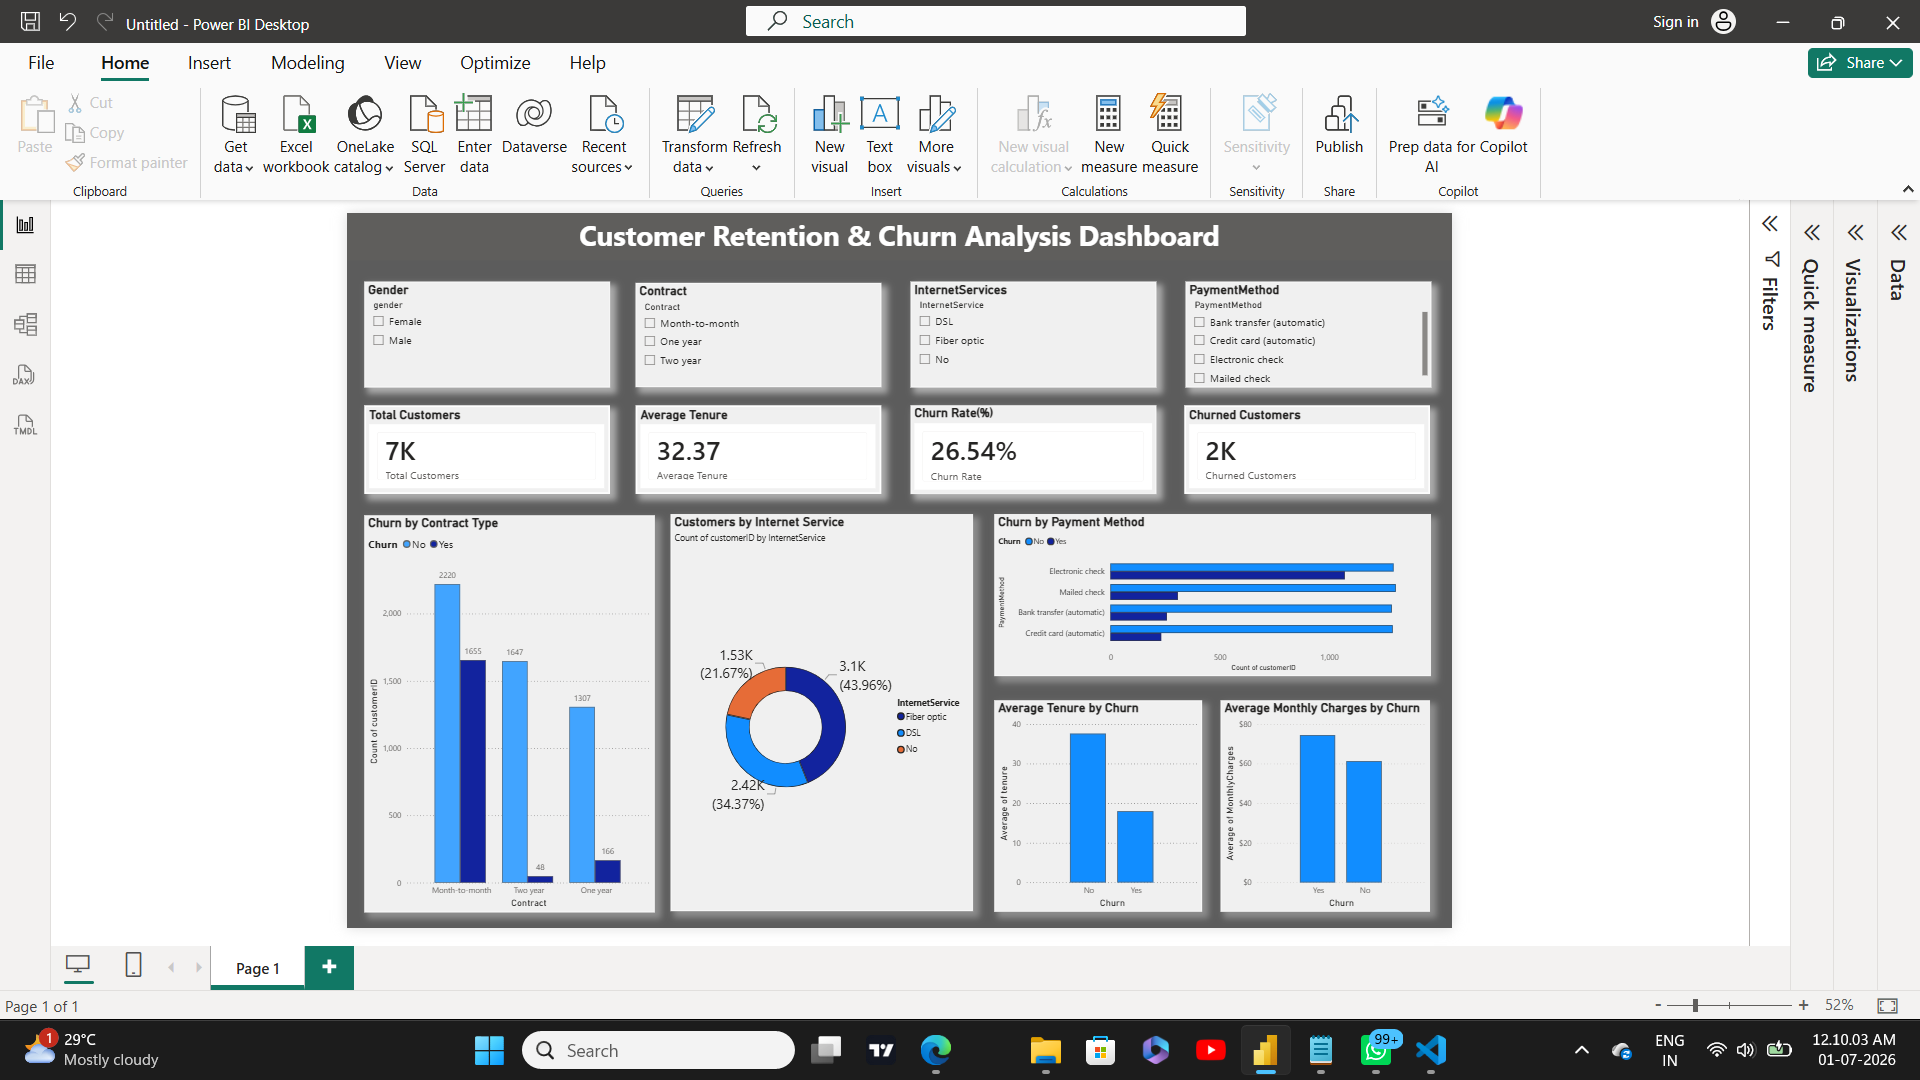

The page's visual inventory and layout, read from the dashboard file:
{"tool":"powerbi","page":{"name":"Page 1","canvas":[1700,1100],"ordinal":0},"visuals":[{"type":"cardVisual","title":"Total Customers","fields":{"Data":["in.Total Customers"]},"box":[27.6,296.8,377.9,136.4],"z":0},{"type":"cardVisual","title":"Churned Customers","fields":{"Data":["in.Churned Customers"]},"box":[1288.4,296.8,377.9,136.4],"z":1000},{"type":"cardVisual","title":"Churn Rate(%)","fields":{"Data":["in.Churn Rate"]},"box":[868.1,296.8,377.9,136.4],"z":2000},{"type":"cardVisual","title":"Average Tenure","fields":{"Data":["in.Average Tenure"]},"box":[444.2,296.8,377.9,136.4],"z":3000},{"type":"textbox","box":[0,0,1700,72.7],"z":4000},{"type":"clusteredColumnChart","title":"Churn by Contract Type","fields":{"Category":["in.Contract"],"Y":["CountNonNull(in.customerID)"],"Series":["in.Churn"]},"box":[27.6,464.5,446,610.1],"z":5000},{"type":"donutChart","title":"Customers by Internet Service","fields":{"Category":["in.InternetService"],"Y":["CountNonNull(in.customerID)"]},"box":[497.7,462.6,464.5,610.1],"z":6000},{"type":"clusteredBarChart","title":"Churn by Payment Method","fields":{"Category":["in.PaymentMethod"],"Y":["CountNonNull(in.customerID)"],"Series":["in.Churn"]},"box":[995.3,462.6,670.9,248.8],"z":7000},{"type":"clusteredColumnChart","title":"Average Monthly Charges by Churn","fields":{"Category":["in.Churn"],"Y":["Avg(in.MonthlyCharges)"]},"box":[1345.1,749.2,321.3,325.1],"z":8000},{"type":"clusteredColumnChart","title":"Average Tenure by Churn","fields":{"Category":["in.Churn"],"Y":["Avg(in.tenure)"]},"box":[995.8,749.2,319.5,325.1],"z":9000},{"type":"slicer","title":"Gender","fields":{"Values":["in.gender"]},"box":[27.6,105.1,377.9,162.2],"z":10000},{"type":"slicer","title":"Contract","fields":{"Values":["in.Contract"]},"box":[444.2,106.9,377.9,160.4],"z":11000},{"type":"slicer","title":"InternetServices","fields":{"Values":["in.InternetService"]},"box":[868.1,105.1,377.9,162.2],"z":12000},{"type":"slicer","title":"PaymentMethod","fields":{"Values":["in.PaymentMethod"]},"box":[1290.2,105.1,377.9,162.2],"z":13000}]}

Visuals, with their boxes on the page's 1700x1100 design canvas (x1, y1, x2, y2). These are canvas units, not pixel positions in the 1920x1080 screenshot, which may show the page scaled, cropped or inside an application window:
"Total Customers" cardVisual: (left=28, top=297, right=406, bottom=433)
"Churned Customers" cardVisual: (left=1288, top=297, right=1666, bottom=433)
"Churn Rate(%)" cardVisual: (left=868, top=297, right=1246, bottom=433)
"Average Tenure" cardVisual: (left=444, top=297, right=822, bottom=433)
textbox: (left=0, top=0, right=1700, bottom=73)
"Churn by Contract Type" clusteredColumnChart: (left=28, top=464, right=474, bottom=1075)
"Customers by Internet Service" donutChart: (left=498, top=463, right=962, bottom=1073)
"Churn by Payment Method" clusteredBarChart: (left=995, top=463, right=1666, bottom=711)
"Average Monthly Charges by Churn" clusteredColumnChart: (left=1345, top=749, right=1666, bottom=1074)
"Average Tenure by Churn" clusteredColumnChart: (left=996, top=749, right=1315, bottom=1074)
"Gender" slicer: (left=28, top=105, right=406, bottom=267)
"Contract" slicer: (left=444, top=107, right=822, bottom=267)
"InternetServices" slicer: (left=868, top=105, right=1246, bottom=267)
"PaymentMethod" slicer: (left=1290, top=105, right=1668, bottom=267)
